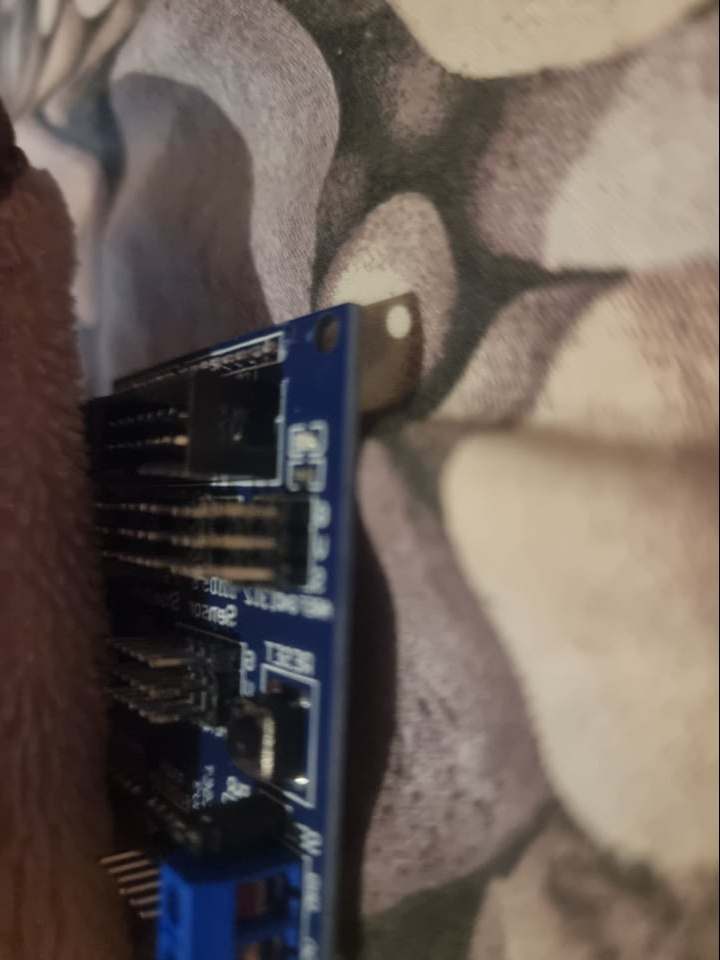5V EXPANSION: (72, 303, 362, 957)
